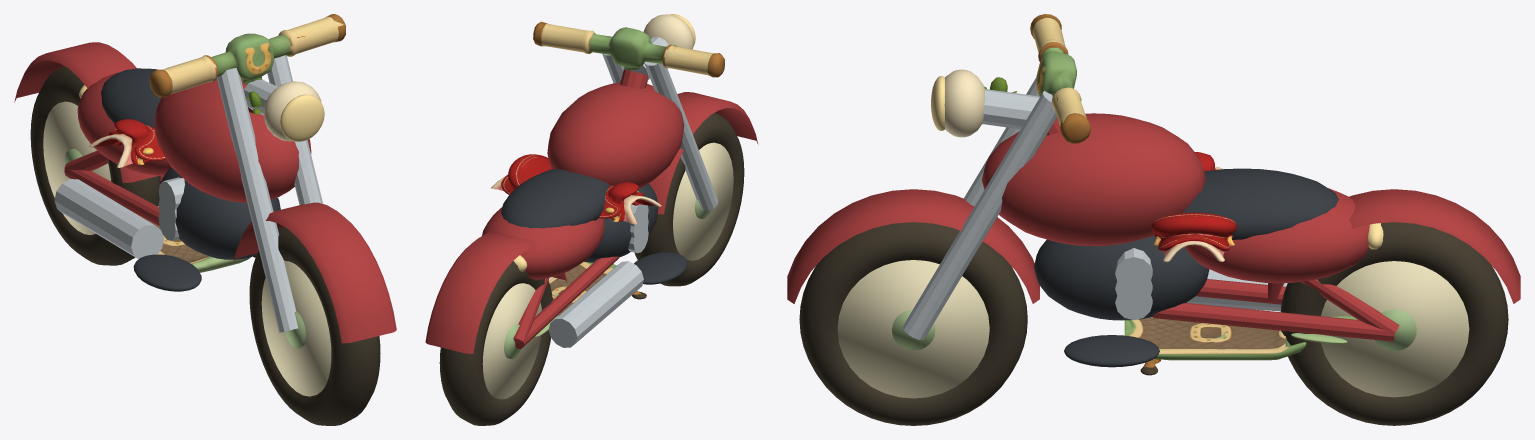
The picture shows the model from 3 angles, left to right: view 1: azimuth 30°, elevation 25°; view 2: azimuth 150°, elevation 25°; view 3: azimuth 270°, elevation 25°; orthographic projection. The views are drawn at different scales.
Parts seen in each view (by area): view 1: wheel_front, 연료 탱크, 앞 흙받이, wheel_rear, tripo_mesh_caba9cc8-8769-4b67-b362-f041629eba61.003, 앞 포크, 엔진, 배기통, 뒤 흙받이, 안장 받침, 뒤 차체, saddle-red (+10 smaller); view 2: 연료 탱크, wheel_rear, wheel_front, 뒤 흙받이, 안장 받침, tripo_mesh_caba9cc8-8769-4b67-b362-f041629eba61.003, 뒤 차체, 배기통, 앞 흙받이, saddle-red, 앞 포크, 체인 스테이 (+7 smaller); view 3: wheel_front, wheel_rear, 연료 탱크, 엔진, 뒤 차체, 앞 흙받이, 안장 받침, 앞 포크.001, body, 뒤 흙받이, tripo_mesh_caba9cc8-8769-4b67-b362-f041629eba61.003, 체인 스테이.001 (+10 smaller).
Part boxes in pixels (x1,y1,x2,y2): wheel_front: (249,226,380,425); 연료 탱크: (154,78,311,202); 앞 흙받이: (233,202,396,343); wheel_rear: (30,66,160,265); tripo_mesh_caba9cc8-8769-4b67-b362-f041629eba61.003: (149,14,345,114); 앞 포크: (217,68,298,332); 엔진: (158,167,280,259); 배기통: (54,179,163,259); 뒤 흙받이: (14,42,160,182); 안장 받침: (101,68,161,128); 뒤 차체: (77,72,170,175); saddle-red: (89,119,165,167); 연료 탱크: (547,82,684,187); wheel_rear: (439,261,552,425); wheel_front: (634,113,744,286); 뒤 흙받이: (425,231,567,353); 안장 받침: (501,168,610,228); tripo_mesh_caba9cc8-8769-4b67-b362-f041629eba61.003: (533,21,724,77); 뒤 차체: (482,207,604,279); 배기통: (548,261,643,347); 앞 흙받이: (649,92,758,214); saddle-red: (491,154,661,224); 앞 포크: (644,61,718,210); 체인 스테이: (515,256,618,348); wheel_front: (799,222,1027,425); wheel_rear: (1280,222,1508,425); 연료 탱크: (982,113,1205,246); 엔진: (1034,235,1209,320); 뒤 차체: (1185,188,1369,283); 앞 흙받이: (787,189,1039,303); 안장 받침: (1182,168,1338,239); 앞 포크.001: (902,91,1056,339); body: (1124,316,1357,375); 뒤 흙받이: (1268,189,1520,303); tripo_mesh_caba9cc8-8769-4b67-b362-f041629eba61.003: (984,14,1090,143); 체인 스테이.001: (1153,303,1394,341).
Size of the model in its own units: 0.6386 by 1.01 by 1.83.
Materials: 11 (2 with a texture image).
